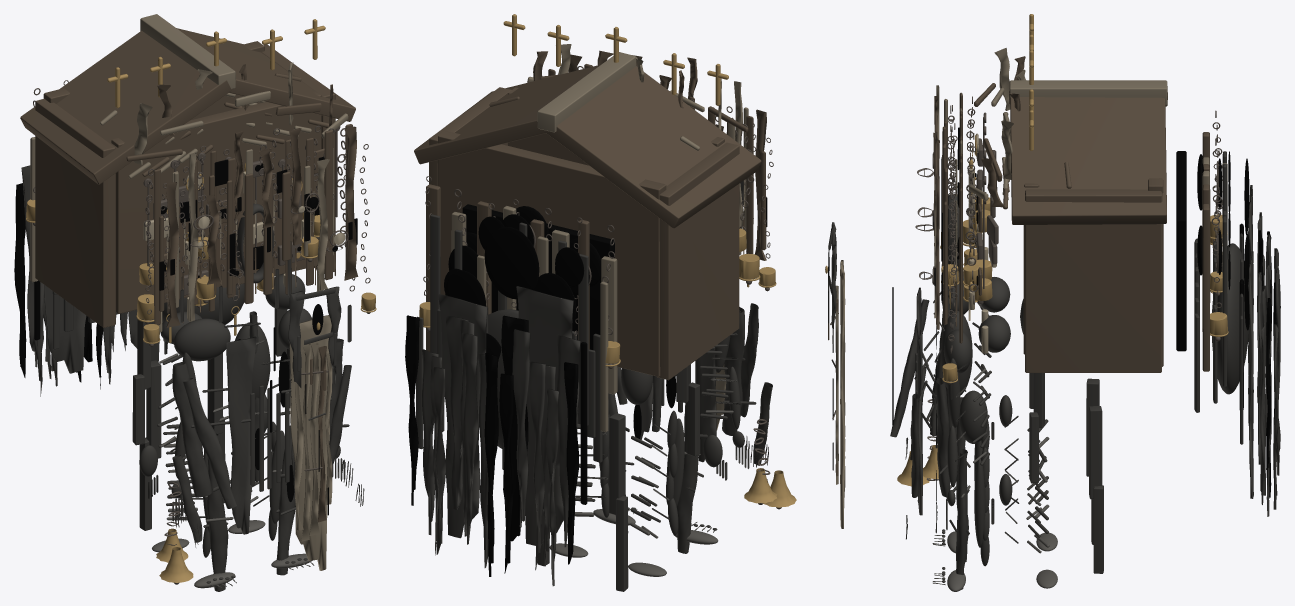
File: penance_carrier_end_goal_v12_head_readability_checkpoint.glb
3 renders of one model, left to right at view 1: azimuth 30°, elevation 25°; view 2: azimuth 150°, elevation 25°; view 3: azimuth 270°, elevation 25°, orthographic. The views are drawn at different scales.
Parts seen in each view (by area): view 1: PC_V4_shrine_front_rotten_wall, PC_V4_shrine_left_side_wall, PC_V4_roof_left_steep_slab, PC_V11_9_one_piece_long_door_face_slab, PC_V11_left_torn_front_cloak_sheet, PC_V4_roof_right_steep_slab, PC_V4_roof_ridge_heavy_rot, PC_V11_5_left_arm_pinched_wrapped_sculpt, PC_V11_7_left_arm_heavy_bowed_sleeve_end_goal, PC_V11_back_rotten_skin_sheet_left, PC_V11_crushed_left_shoulder_meat, PC_V11_6_back_thin_torn_rag_layer_00 (+46 smaller); view 2: PC_V4_shrine_rear_rotten_wall, PC_V4_roof_left_steep_slab, PC_V4_shrine_left_side_wall, PC_V4_roof_right_steep_slab, PC_V11_back_rotten_skin_sheet_left, PC_V11_back_rotten_skin_sheet_right, PC_V11_back_deep_rotted_hole_01, PC_V4_roof_ridge_heavy_rot, PC_V4_back_black_rotten_hollow, PC_V11_6_back_thin_torn_rag_layer_02, PC_V11_7_back_rotten_interior_tongue_02, PC_V11_5_back_layered_rotten_sheet_04 (+52 smaller); view 3: PC_V4_shrine_right_side_wall, PC_V4_roof_right_steep_slab, PC_V4_roof_ridge_heavy_rot, PC_V11_back_swollen_rotten_under_mass, PC_V4_back_black_rotten_hollow, PC_V11_9_one_piece_long_door_face_slab, PC_V5_back_rotten_vertical_plank_07, PC_V11_5_right_leg_compressed_wrapped_sculpt, PC_V11_5_right_arm_pinched_wrapped_sculpt, PC_V11_back_rotten_skin_sheet_right, PC_V6_right_wrapped_thigh, PC_V11_7_left_arm_heavy_bowed_sleeve_end_goal (+21 smaller).
Part boxes in pixels (box(x1,y1,x2,y2)): PC_V4_shrine_front_rotten_wall: box(111, 90, 321, 313); PC_V4_shrine_left_side_wall: box(35, 98, 115, 327); PC_V4_roof_left_steep_slab: box(20, 30, 231, 184); PC_V11_9_one_piece_long_door_face_slab: box(289, 315, 331, 570); PC_V11_left_torn_front_cloak_sheet: box(226, 336, 256, 534); PC_V4_roof_right_steep_slab: box(176, 28, 355, 121); PC_V4_roof_ridge_heavy_rot: box(140, 14, 235, 88); PC_V11_5_left_arm_pinched_wrapped_sculpt: box(172, 362, 212, 497); PC_V11_7_left_arm_heavy_bowed_sleeve_end_goal: box(183, 378, 236, 508); PC_V11_back_rotten_skin_sheet_left: box(44, 285, 86, 373); PC_V11_crushed_left_shoulder_meat: box(174, 318, 230, 361); PC_V11_6_back_thin_torn_rag_layer_00: box(14, 183, 26, 377); PC_V4_shrine_rear_rotten_wall: box(437, 130, 666, 376); PC_V4_roof_left_steep_slab: box(546, 66, 761, 228); PC_V4_shrine_left_side_wall: box(656, 142, 739, 380); PC_V4_roof_right_steep_slab: box(414, 65, 597, 164); PC_V11_back_rotten_skin_sheet_left: box(516, 286, 573, 545); PC_V11_back_rotten_skin_sheet_right: box(438, 294, 487, 538); PC_V11_back_deep_rotted_hole_01: box(484, 227, 539, 299); PC_V4_roof_ridge_heavy_rot: box(537, 52, 636, 132); PC_V4_back_black_rotten_hollow: box(462, 204, 614, 349); PC_V11_6_back_thin_torn_rag_layer_02: box(512, 329, 530, 527); PC_V11_7_back_rotten_interior_tongue_02: box(461, 332, 478, 544); PC_V11_5_back_layered_rotten_sheet_04: box(446, 315, 468, 509); PC_V4_shrine_right_side_wall: box(1025, 189, 1162, 372); PC_V4_roof_right_steep_slab: box(1010, 97, 1166, 224); PC_V4_roof_ridge_heavy_rot: box(1009, 80, 1167, 105); PC_V11_back_swollen_rotten_under_mass: box(1212, 243, 1248, 394); PC_V4_back_black_rotten_hollow: box(1176, 151, 1186, 351); PC_V11_9_one_piece_long_door_face_slab: box(840, 260, 845, 528); PC_V5_back_rotten_vertical_plank_07: box(1202, 204, 1209, 371); PC_V11_5_right_leg_compressed_wrapped_sculpt: box(955, 449, 967, 589); PC_V11_5_right_arm_pinched_wrapped_sculpt: box(935, 378, 949, 497); PC_V11_back_rotten_skin_sheet_right: box(1248, 251, 1253, 498); PC_V6_right_wrapped_thigh: box(1089, 406, 1102, 499); PC_V11_7_left_arm_heavy_bowed_sleeve_end_goal: box(890, 299, 929, 437).
Bounding box in the file's own units: 2.34 × 4.48 × 3.52.
